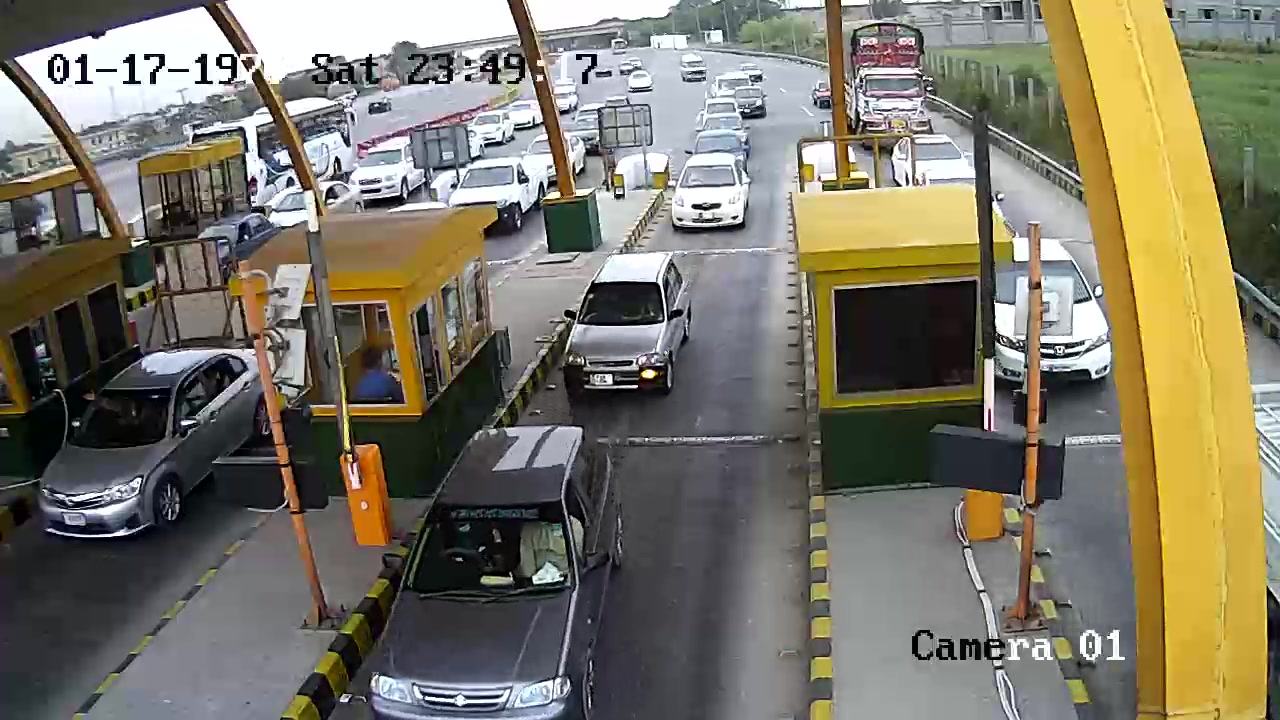F1: (361, 415, 643, 717), (556, 246, 696, 404)
